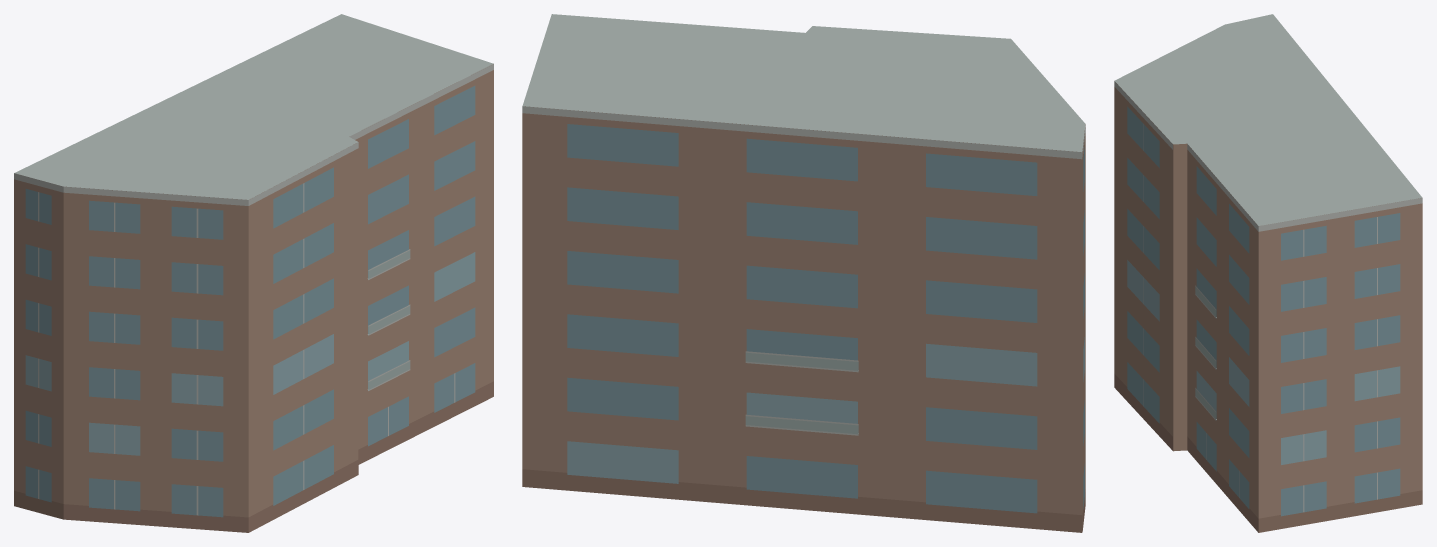
Rendered from survey-upis-32836143.glb.
3 renders of one model, left to right at view 1: azimuth 30°, elevation 25°; view 2: azimuth 150°, elevation 25°; view 3: azimuth 270°, elevation 25°, orthographic. The views are drawn at different scales.
Visible parts, largest first — view 1: survey-upis-32836143.tmp; view 2: survey-upis-32836143.tmp; view 3: survey-upis-32836143.tmp.
Part boxes in pixels (<box>): survey-upis-32836143.tmp: <box>14,14,493,532</box>; survey-upis-32836143.tmp: <box>522,14,1085,532</box>; survey-upis-32836143.tmp: <box>1114,14,1422,532</box>.
Size of the model in its own units: 19.52 by 13.15 by 11.98.
